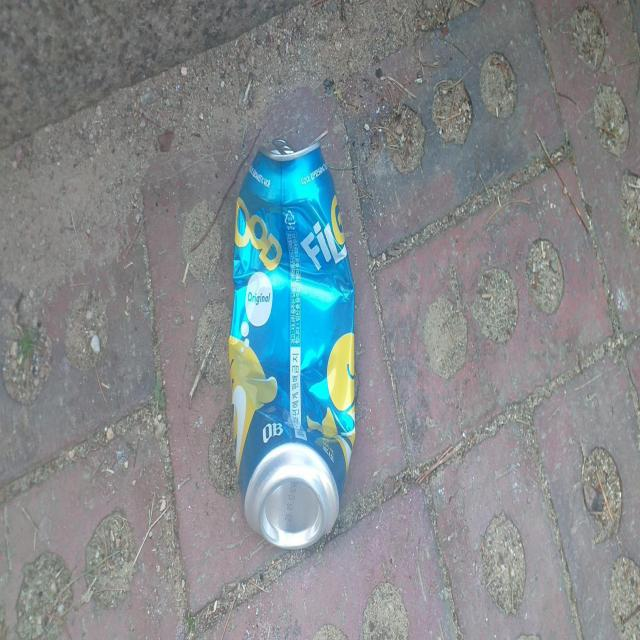can: (228, 137, 356, 548)
